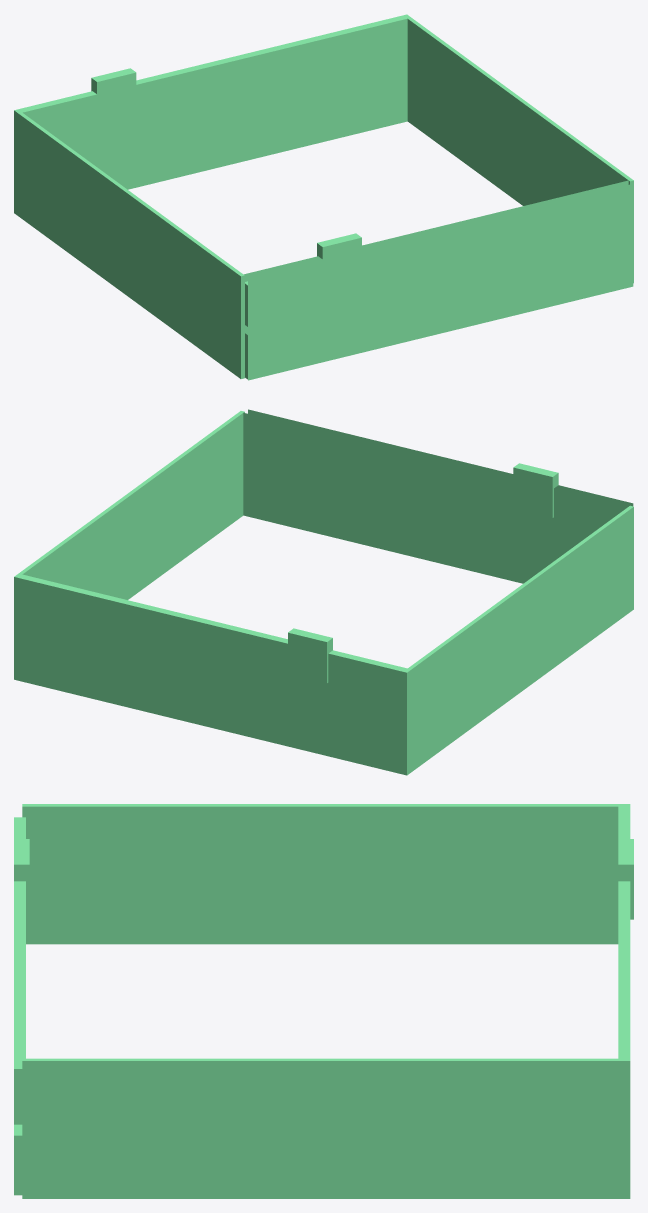
File: slide_spatula.dae
3 views of the same model, one above another, from view 1: azimuth 30°, elevation 25°; view 2: azimuth 150°, elevation 25°; view 3: azimuth 270°, elevation 25° (orthographic). The views are drawn at different scales.
Parts seen in each view (by area): view 1: node1.001; view 2: node1.001; view 3: node1.001.
Boxes of the visible parts, x1,y1,x2,y2 form: node1.001: (14,14,633,380); node1.001: (14,409,633,775); node1.001: (14,804,633,1198).
Size of the model in its own units: 0.1 by 0.102 by 0.028.
